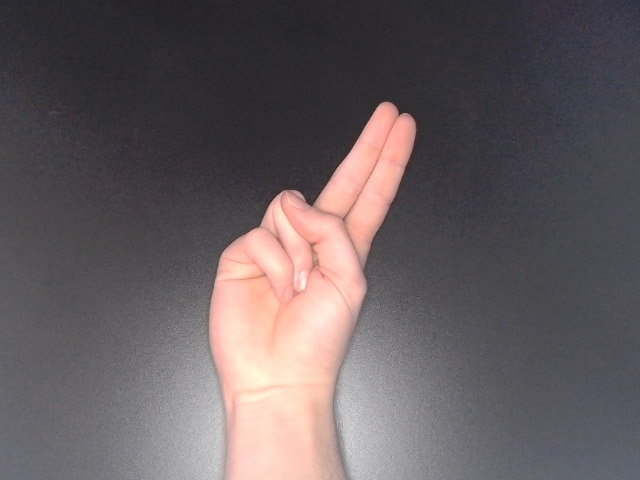u: (201, 98, 421, 426)
